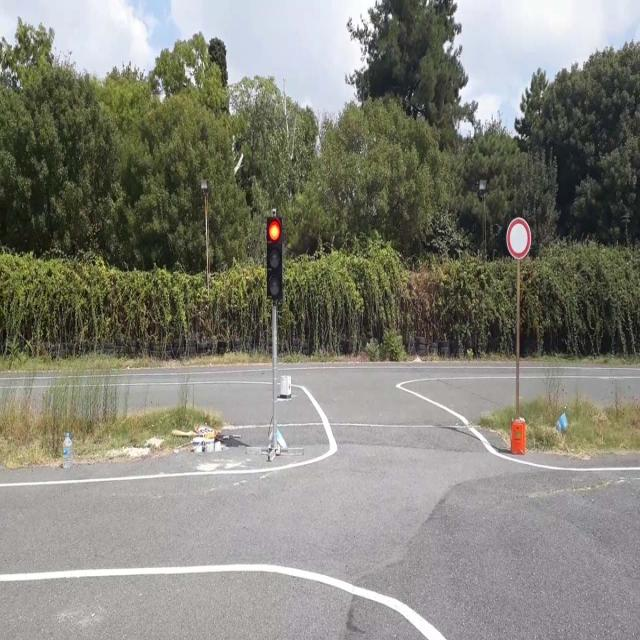kirmizi: (267, 217, 283, 299)
